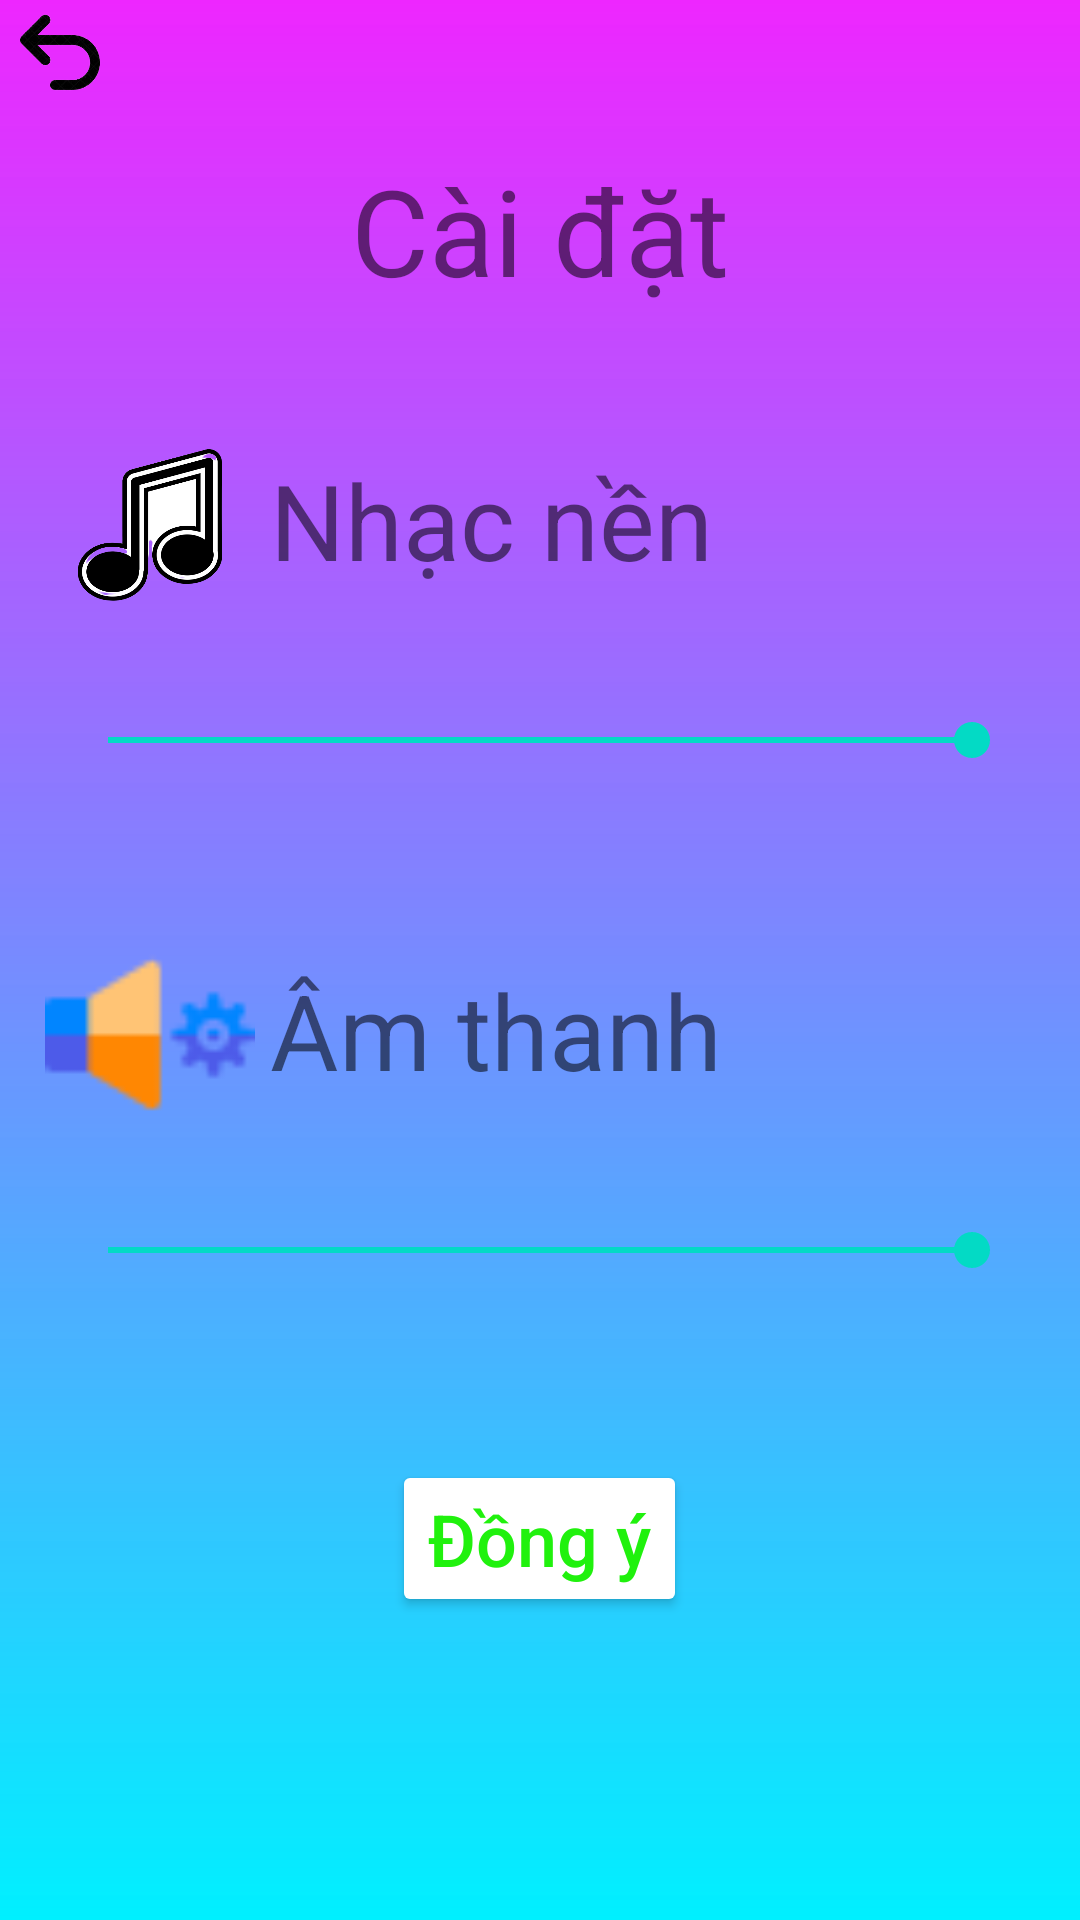

Screen size 1080x1920. Icon name, then its center in pixels as point (x, y):
amthanh: point (150, 1020)
nhacnen: point (150, 525)
